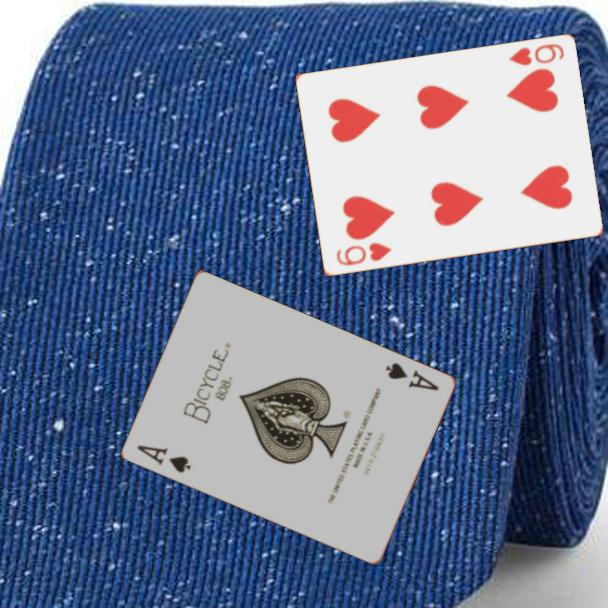h06: (332, 239, 394, 269), (505, 40, 567, 69)
s01: (133, 441, 194, 476), (381, 359, 442, 394)
